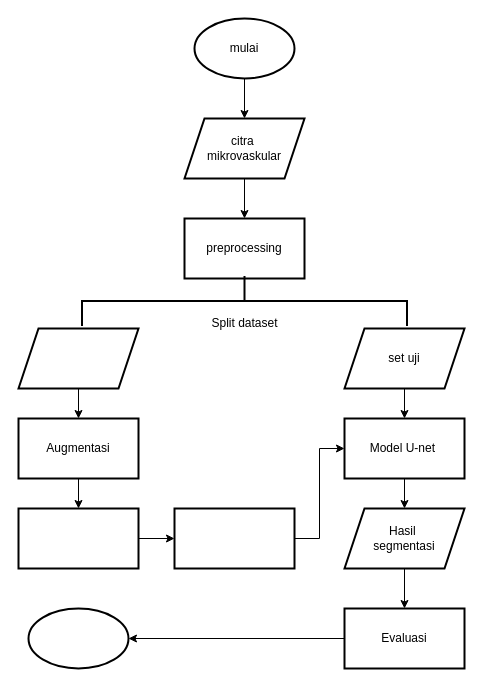
Image size: 482x686. Some labels were removed from this diagram. The box of each missing label's shape, as (x1, y1, x2, y2) in pixels:
Parameter tuning: (173, 507, 295, 569)
pembuatan model U-net: (17, 507, 139, 569)
selesai: (27, 607, 129, 669)
set latih: (17, 327, 139, 389)
